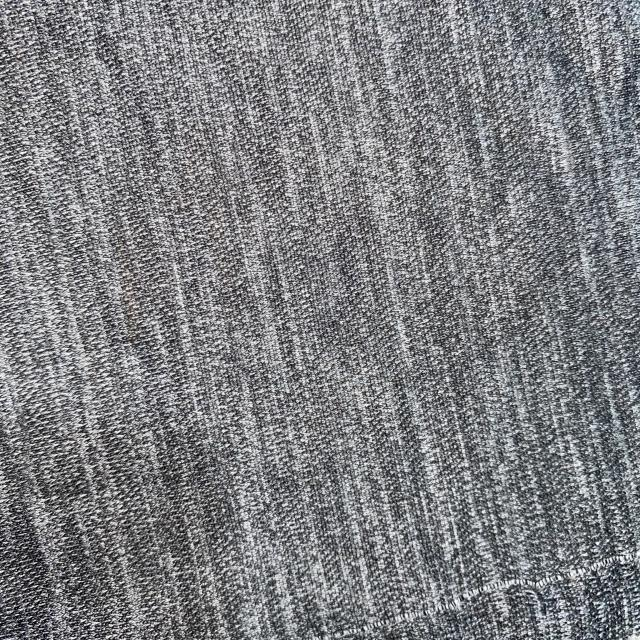Line: (308, 544, 639, 639)
